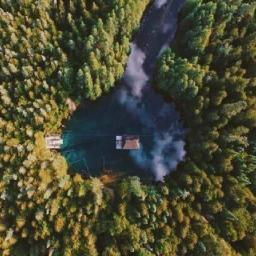Low smoke: (114, 2, 208, 182)
